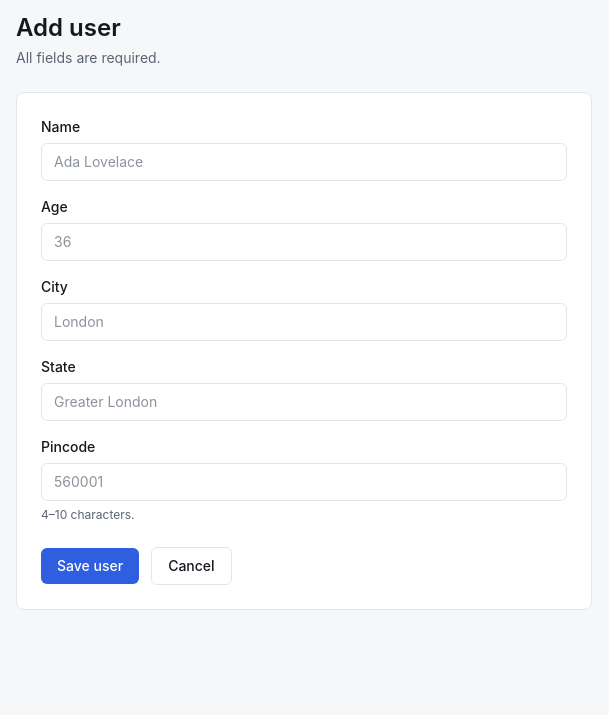
Test: UserAddPage › blocks submission and shows inline messages when fields are invalid
The image size is (609, 715).
In the field labelled "Name": (304, 162) [41, 143, 567, 181], type "A"
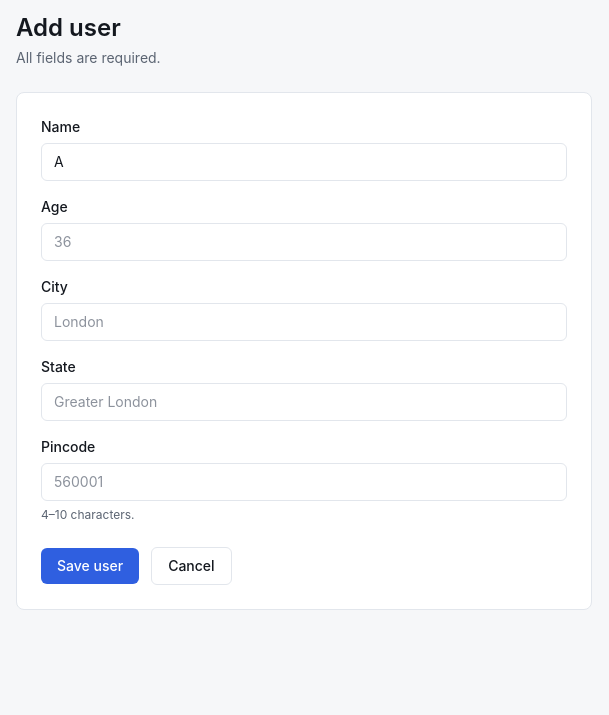
In the number field labelled "Age": (304, 242) [41, 223, 567, 261], type "999"
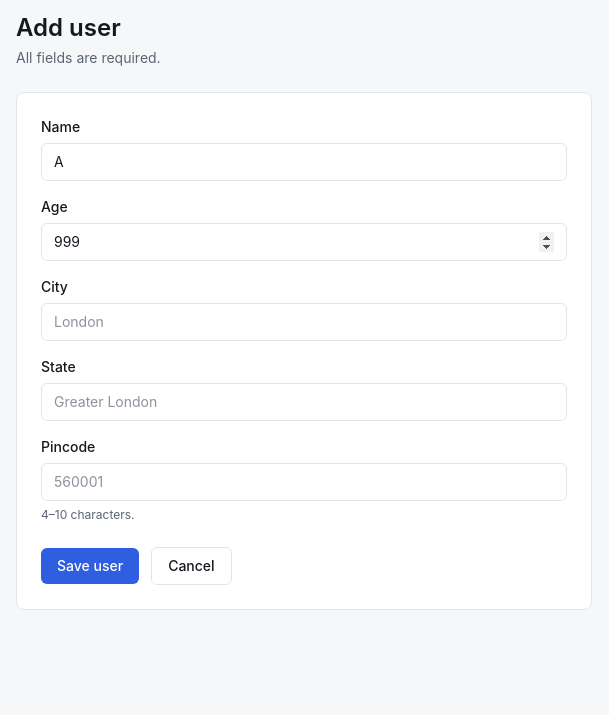
Click the button "Save user": (90, 566) [41, 548, 139, 584]
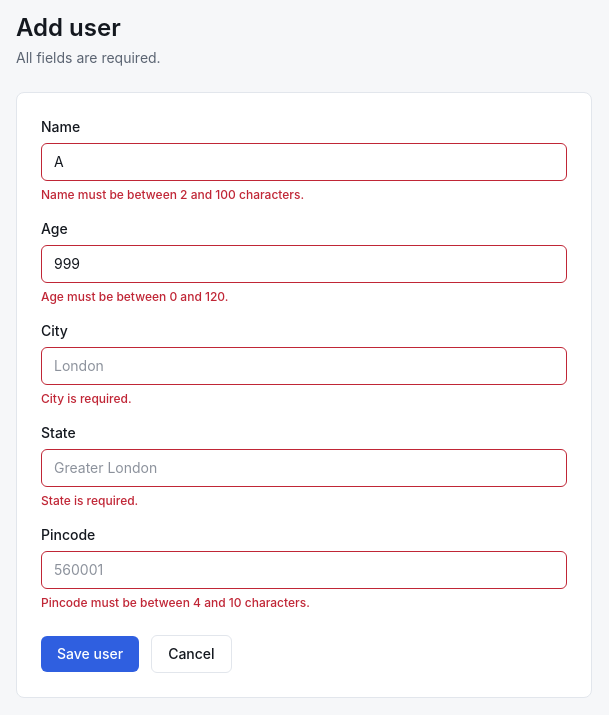
Expected: the text "Name must be between 2 and 100 characters." is shown, [41, 187, 304, 202]
Expected: the text "Age must be between 0 and 120." is shown, [41, 289, 228, 304]
Expected: the text "City is required." is shown, [41, 391, 132, 406]
